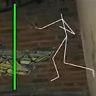hacks_2: (13, 3, 96, 90)
